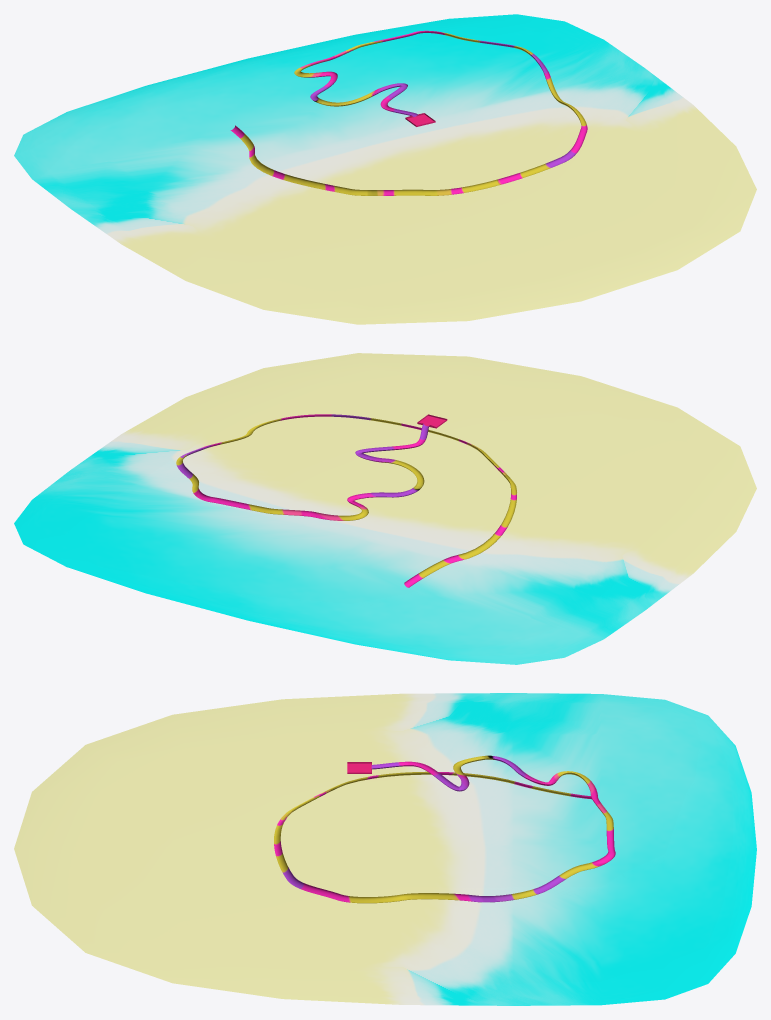
File: Tobogan.fbx
The picture shows the model from 3 angles, top to bottom: view 1: azimuth 30°, elevation 25°; view 2: azimuth 150°, elevation 25°; view 3: azimuth 270°, elevation 25°; orthographic projection. The views are drawn at different scales.
Visible parts, largest first — view 1: Tobogan; view 2: Tobogan; view 3: Tobogan.
Boxes of the visible parts, x1,y1,x2,y2 form: Tobogan: [14, 14, 756, 324]; Tobogan: [14, 353, 756, 664]; Tobogan: [14, 693, 756, 1005].
Size of the model in its own units: 38359 by 4562 by 38489.
2 materials, 2 textured.
